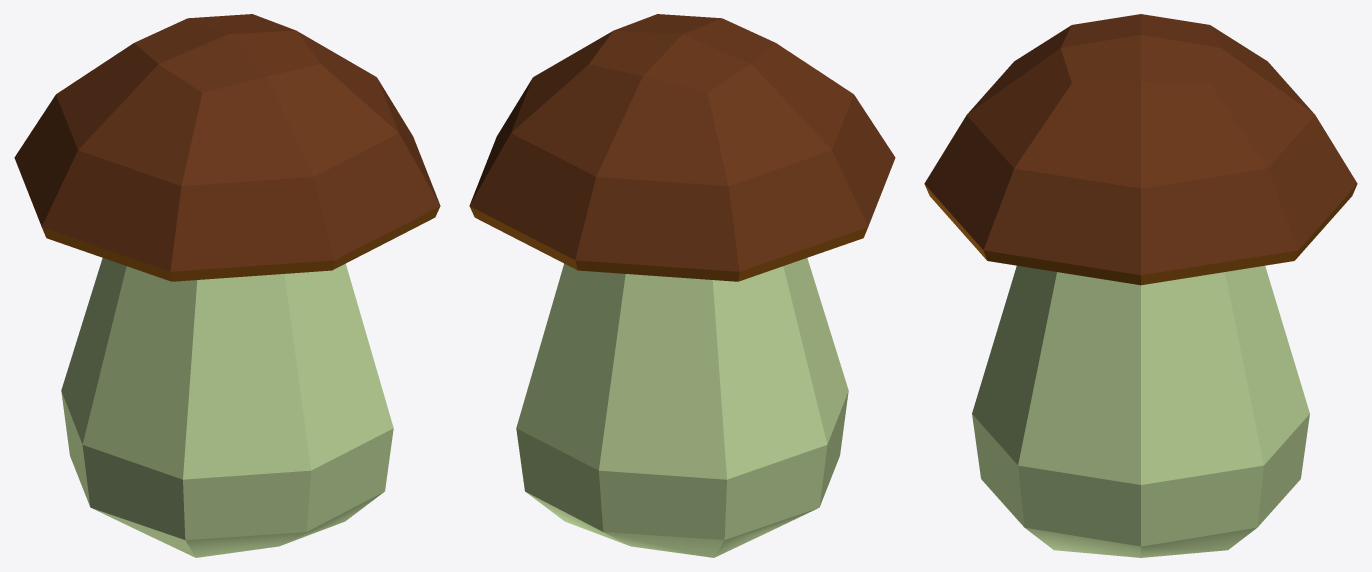
Rendered from small_mushrooms.fbx.
3 renders of one model, left to right at view 1: azimuth 30°, elevation 25°; view 2: azimuth 150°, elevation 25°; view 3: azimuth 270°, elevation 25°, orthographic.
Parts seen in each view (by area): view 1: F_small_mushroom; view 2: F_small_mushroom; view 3: F_small_mushroom.
Boxes of the visible parts, x1=… form: F_small_mushroom: x1=14, y1=14, x2=440, y2=557; F_small_mushroom: x1=469, y1=14, x2=895, y2=557; F_small_mushroom: x1=924, y1=14, x2=1357, y2=557.
Size of the model in its own units: 27.01 by 33.66 by 27.01.
